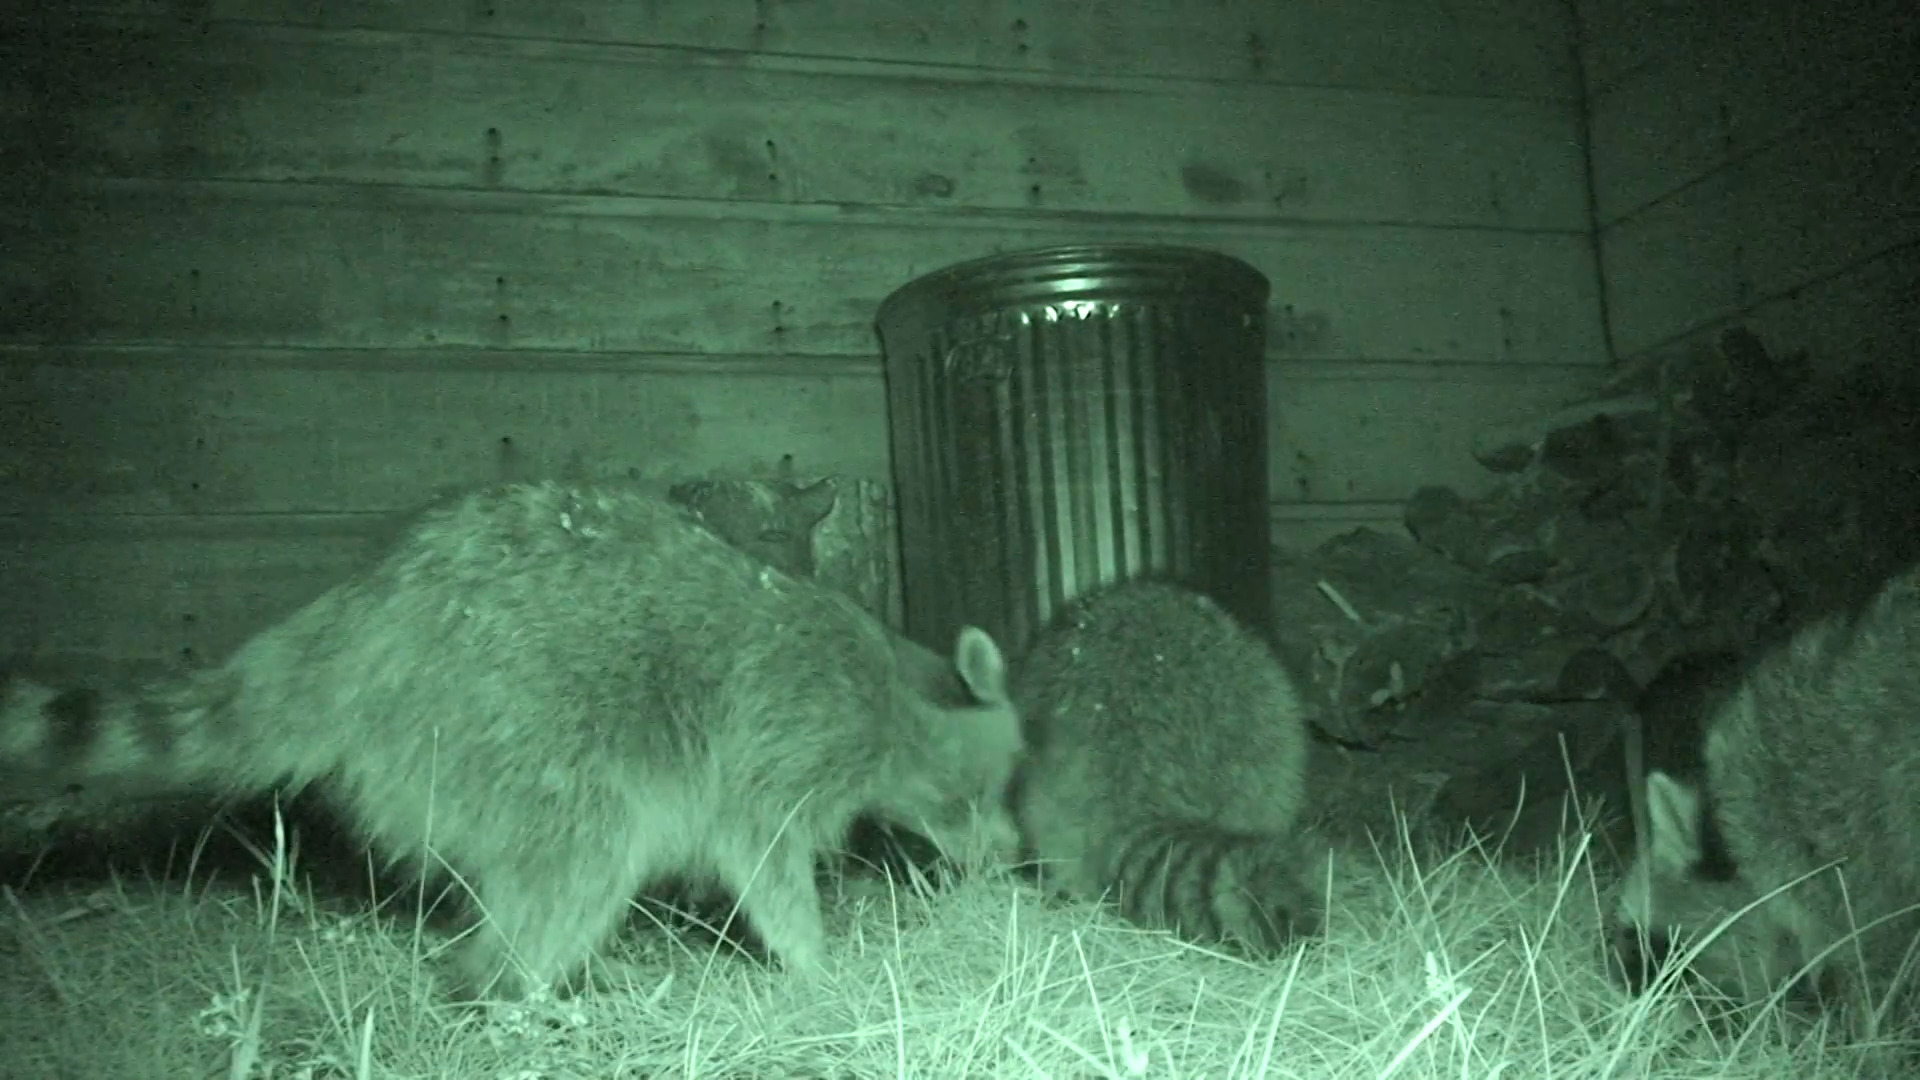raccoon: (15, 440, 982, 951), (1520, 433, 1896, 975), (1073, 541, 1296, 975)
